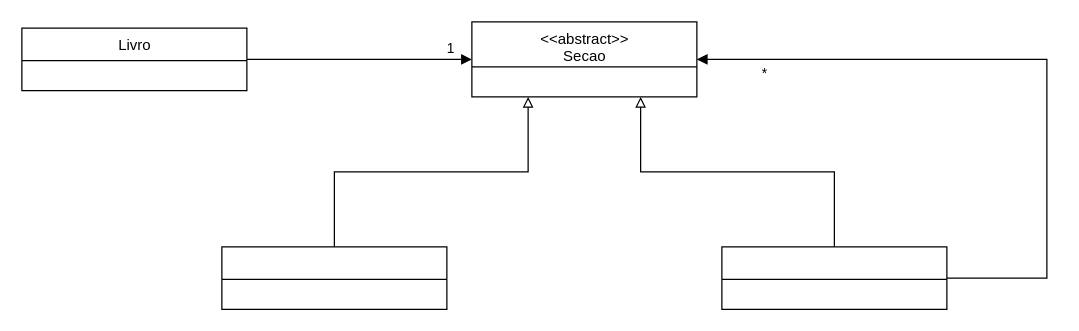
This 1079x331 diagram has some shape labels left out. The shapes that lost their labels are listed below. From the top down, each one's centre as x and y in pixels, then its label:
At point (334, 277): "Capitulo".
At point (834, 277): "Parte".
